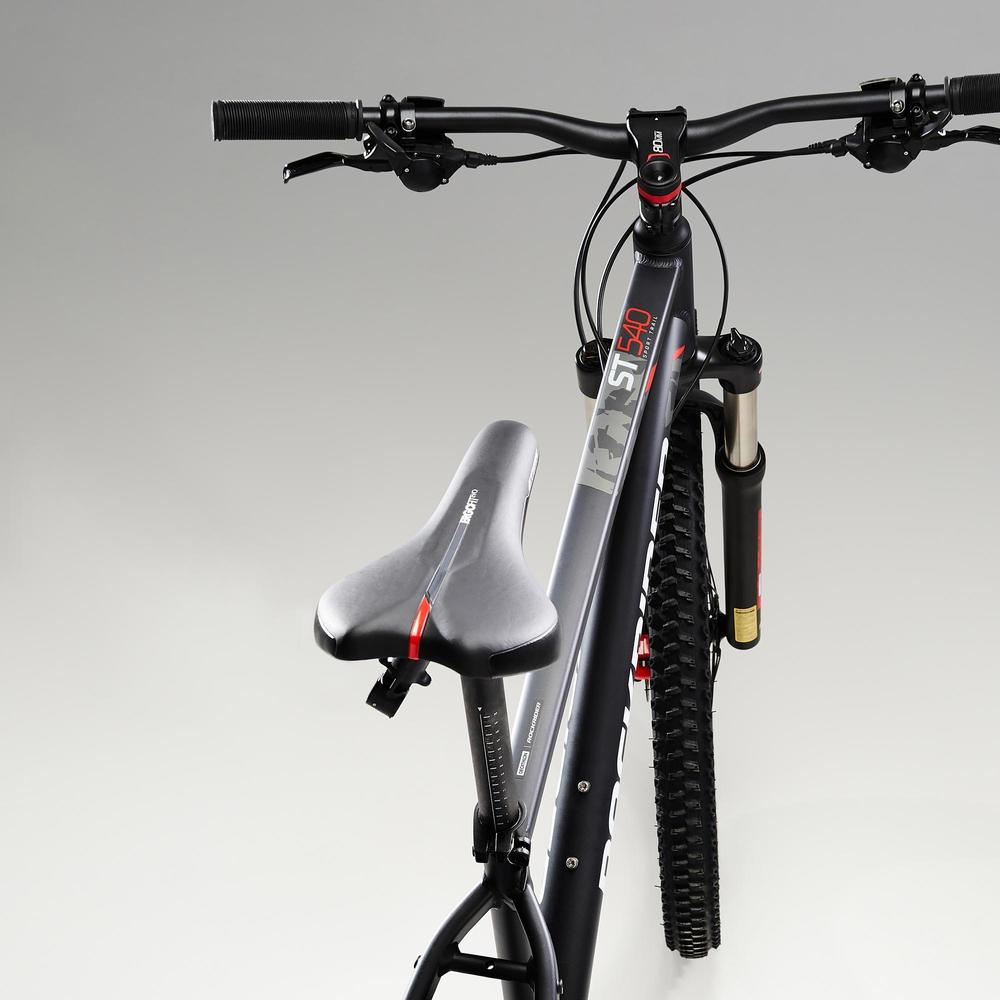MountainBike: (199, 65, 1000, 989)
